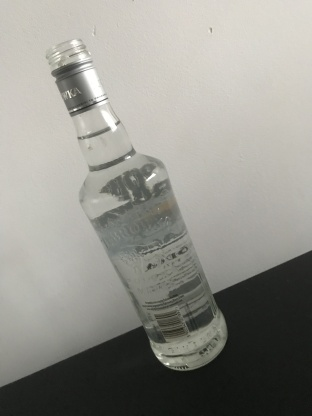nakretka: (44, 35, 111, 119)
